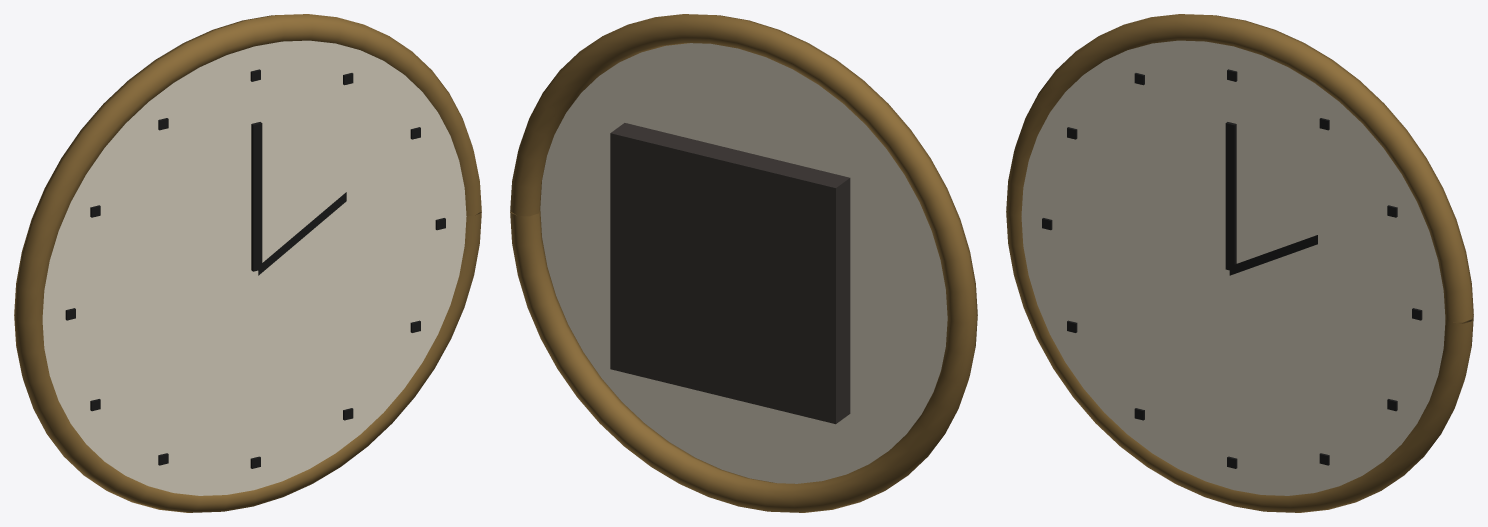
The model's file is BIB-CLK-std.glb.
3 views of the same model, side by side, from view 1: azimuth 30°, elevation 25°; view 2: azimuth 150°, elevation 25°; view 3: azimuth 330°, elevation 25° (orthographic).
Parts seen in each view (by area): view 1: BIB-CLK-std; view 2: BIB-CLK-std; view 3: BIB-CLK-std.
Boxes of the visible parts, bbox=[...] form: BIB-CLK-std: bbox=[14, 14, 481, 512]; BIB-CLK-std: bbox=[510, 14, 977, 512]; BIB-CLK-std: bbox=[1006, 14, 1473, 512].
Bounding box in the file's own units: 0.412 × 0.412 × 0.048.
